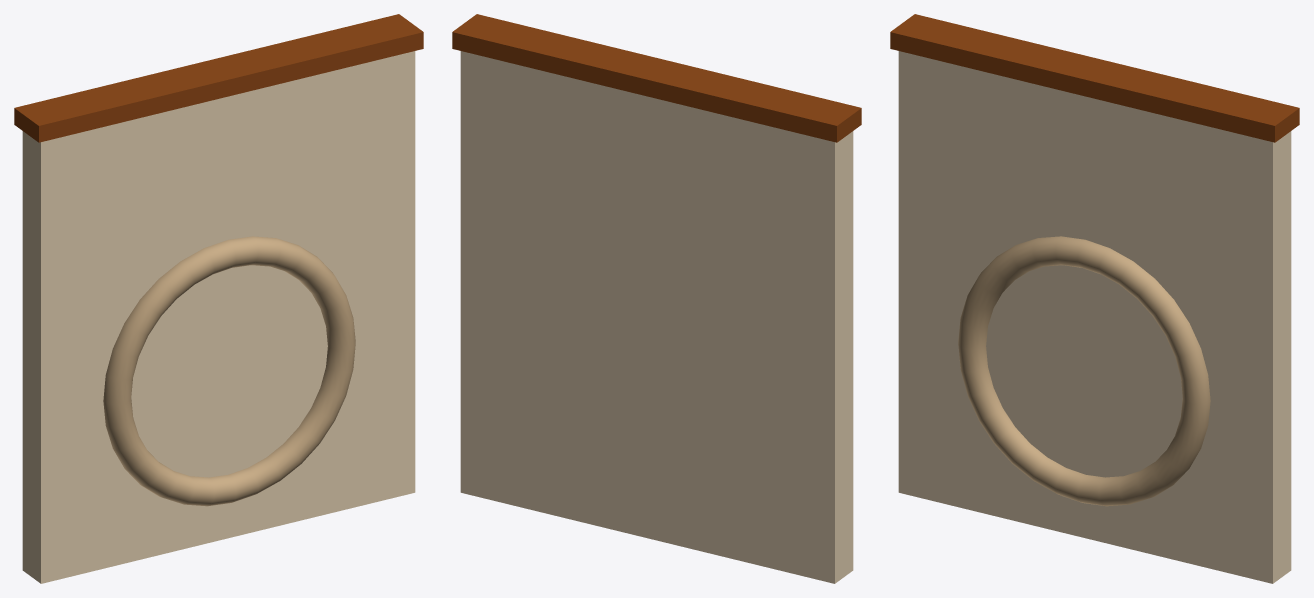
The model's file is moongate.glb.
3 renders of one model, left to right at view 1: azimuth 30°, elevation 25°; view 2: azimuth 150°, elevation 25°; view 3: azimuth 330°, elevation 25°, orthographic.
Size of the model in its own units: 3.6 by 4.13 by 0.48.
